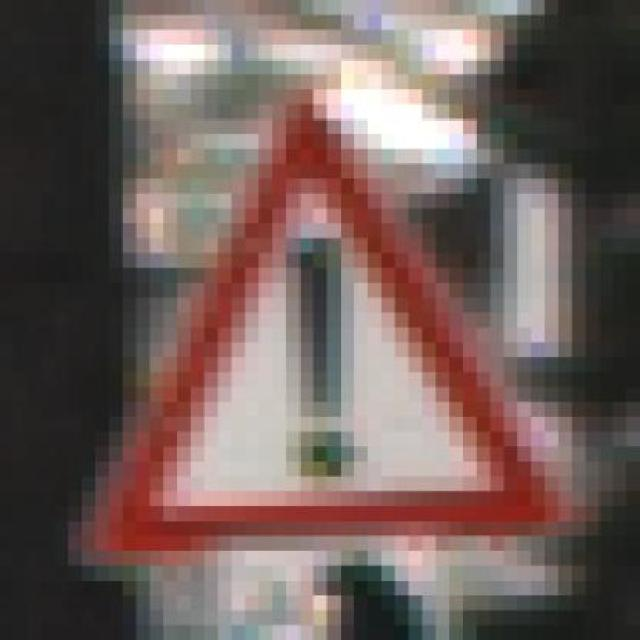Attention Please-: (60, 102, 591, 548)
